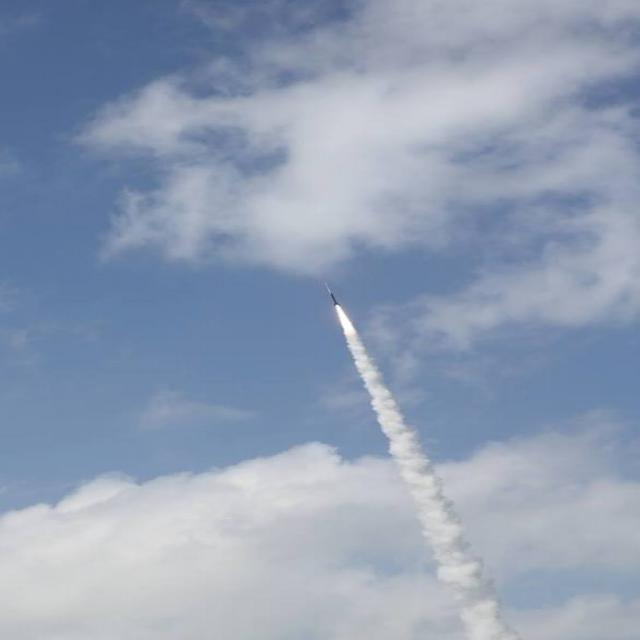missile: (320, 275, 342, 310)
